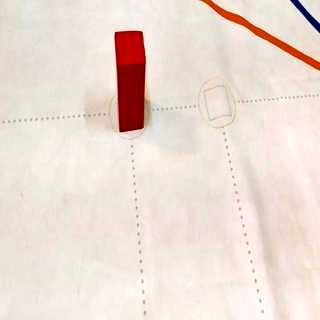redbox: (114, 30, 146, 132)
